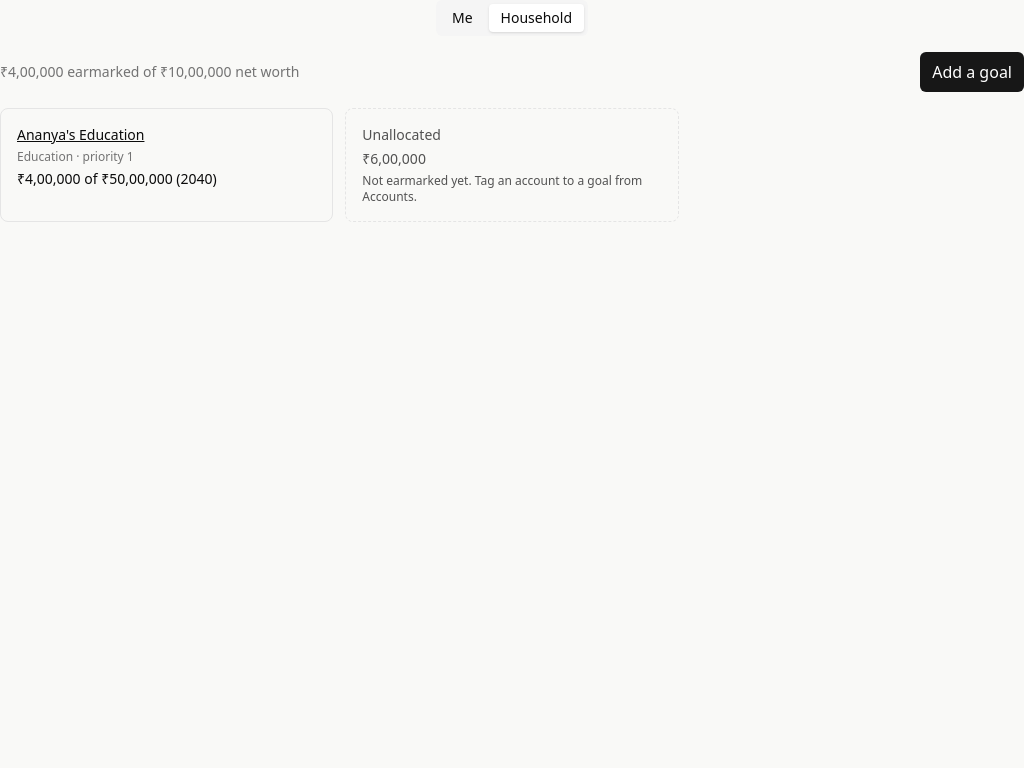
Goals › deletes after confirming, and frees its earmark to Unallocated
Click the button "Ananya's Education" at (81, 134), box 17,125 -> 316,145
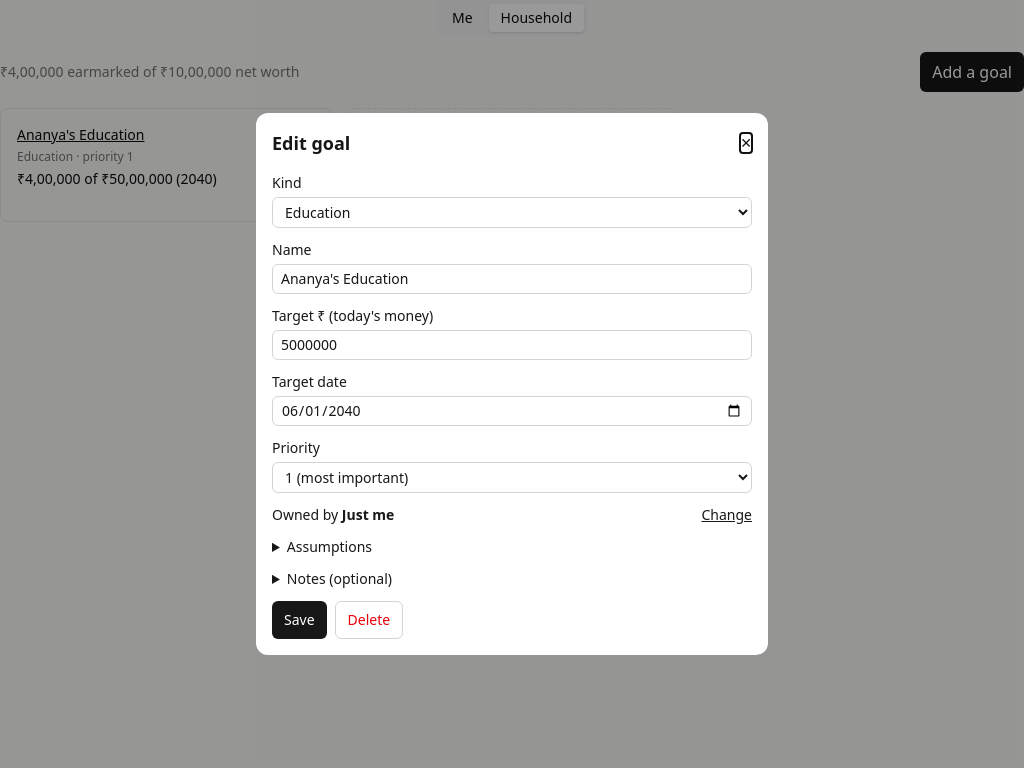
Click the button "Delete" at (369, 620), box 335,601 -> 403,639
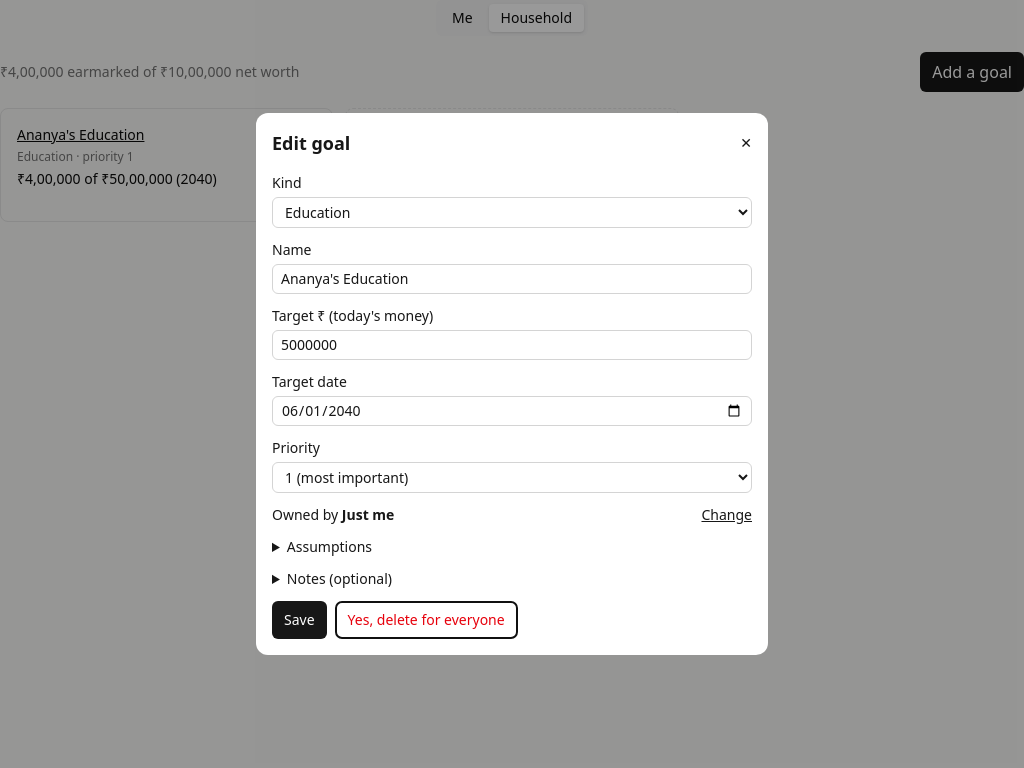
Click the button "Yes, delete for everyone" at (426, 620), box 335,601 -> 518,639
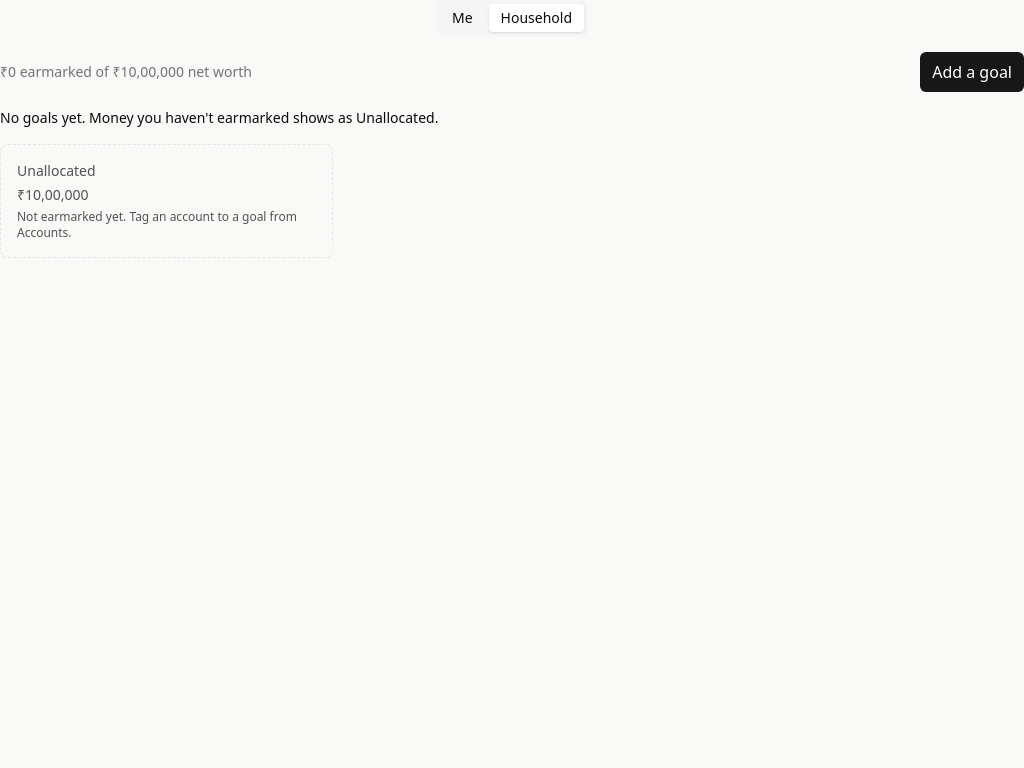
Expected: the text "₹10,00,000" is shown, 17,185 -> 89,204
